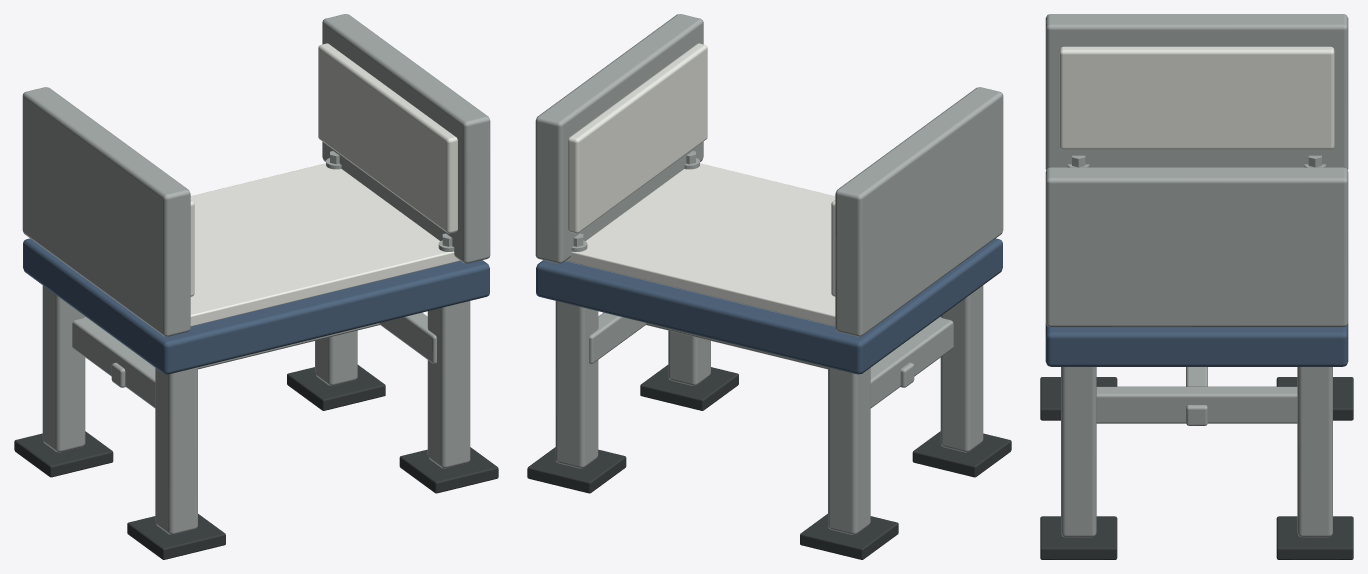
Rendered from spacecraft-parachute-packing-hall-spacecraft-parachute-4d9f4399__32092.glb.
The picture shows the model from 3 angles, left to right: view 1: azimuth 30°, elevation 25°; view 2: azimuth 150°, elevation 25°; view 3: azimuth 270°, elevation 25°; orthographic projection. The views are drawn at different scales.
Parts seen in each view (by area): view 1: spacecraft-parachute-packing-hall-deployment-bag-support-cra (×5); view 2: spacecraft-parachute-packing-hall-deployment-bag-support-cra (×5); view 3: spacecraft-parachute-packing-hall-deployment-bag-support-cra (×4).
Boxes of the visible parts, box(x1,y1,x2,y2) form: spacecraft-parachute-packing-hall-deployment-bag-support-cra (×5): box(14, 14, 498, 559); spacecraft-parachute-packing-hall-deployment-bag-support-cra (×5): box(527, 14, 1011, 559); spacecraft-parachute-packing-hall-deployment-bag-support-cra (×4): box(1040, 14, 1353, 559).
Size of the model in its own units: 0.74 by 0.76 by 0.57.
